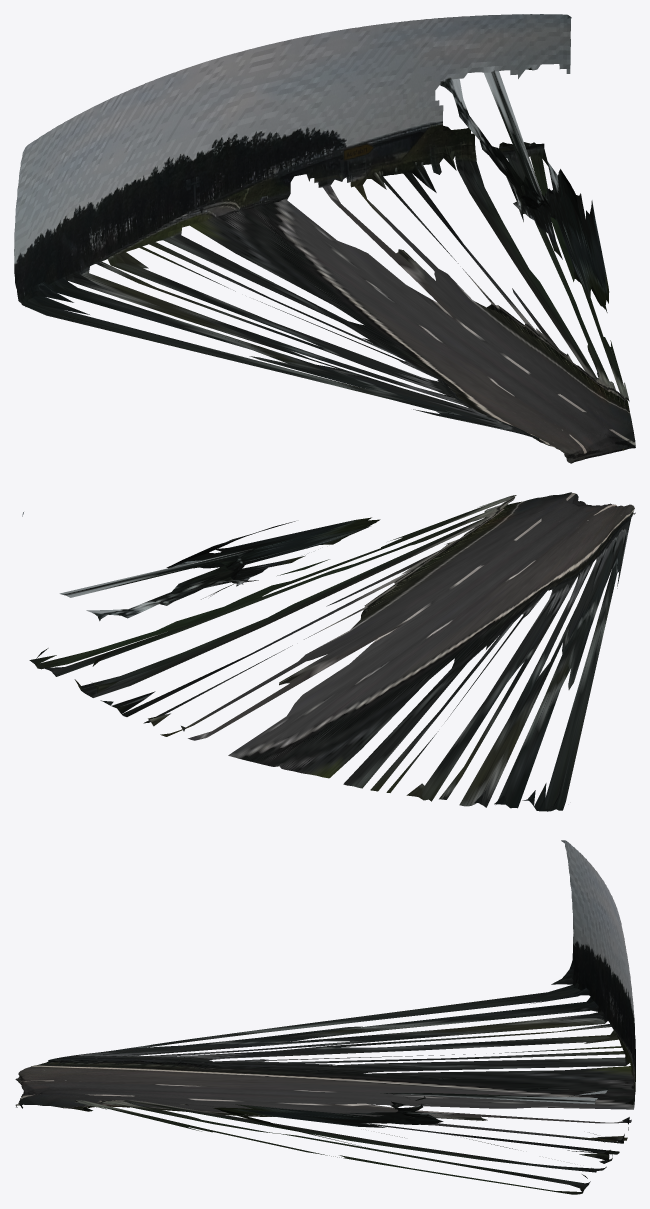
The picture shows the model from 3 angles, top to bottom: view 1: azimuth 30°, elevation 25°; view 2: azimuth 150°, elevation 25°; view 3: azimuth 270°, elevation 25°; orthographic projection. The views are drawn at different scales.
Parts seen in each view (by area): view 1: defaultobject; view 2: defaultobject; view 3: defaultobject.
Part boxes in pixels (left/top/right/bottom): defaultobject: left=14, top=14, right=635, bottom=463; defaultobject: left=22, top=492, right=635, bottom=811; defaultobject: left=15, top=840, right=635, bottom=1194.
Size of the model in its own units: 41.06 by 12.52 by 44.49.
Materials: 1 (1 with a texture image).
